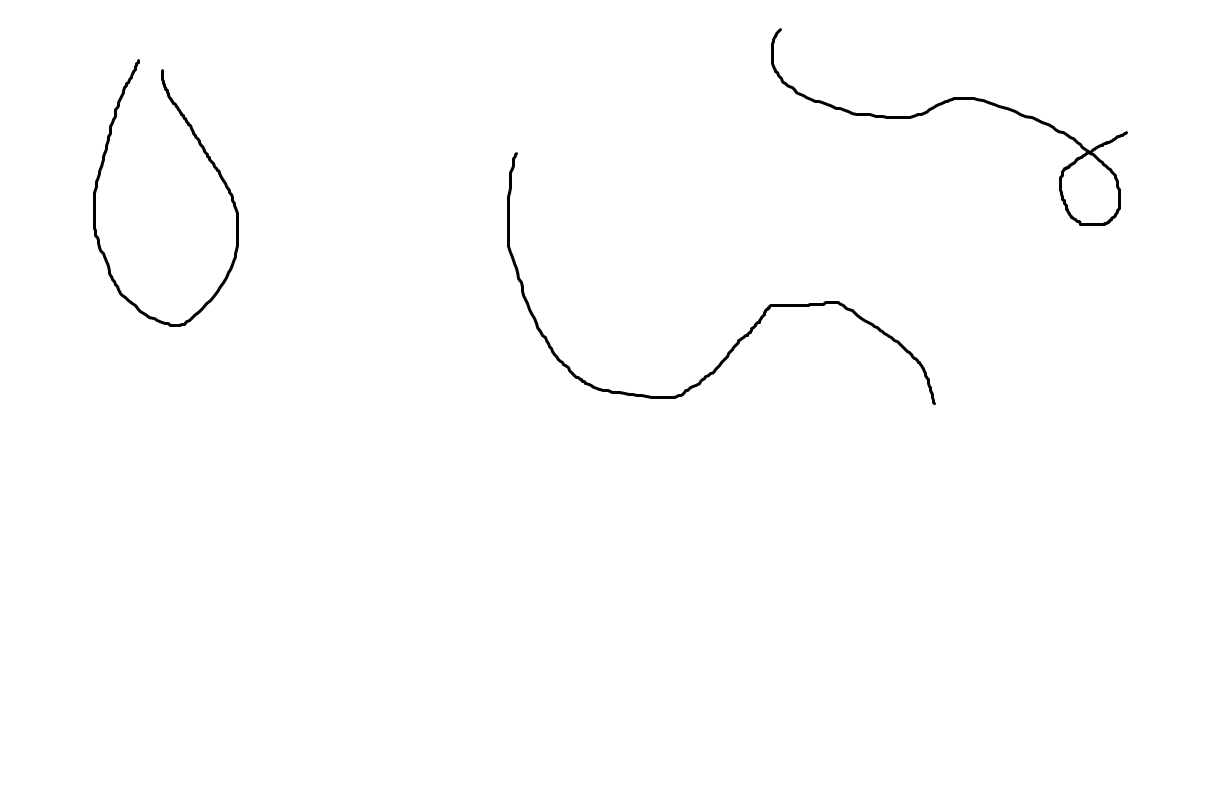tube: (490, 138, 954, 428), (757, 16, 1142, 235), (79, 46, 248, 346)
